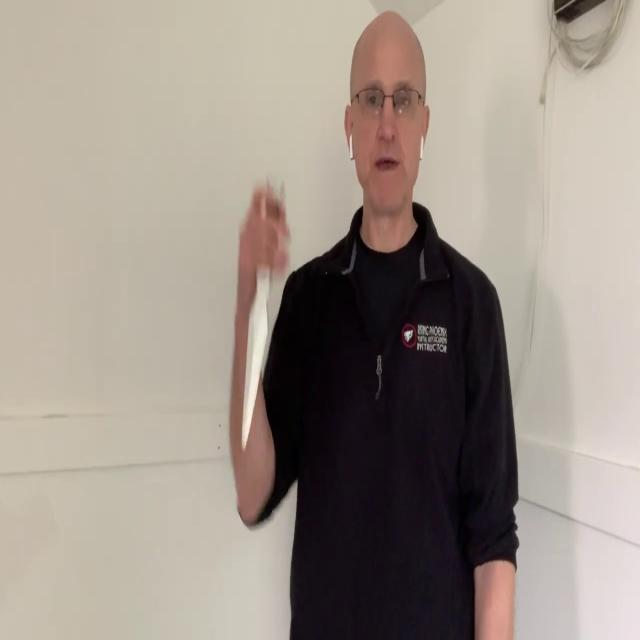Knife_Handle: (238, 180, 292, 452)
